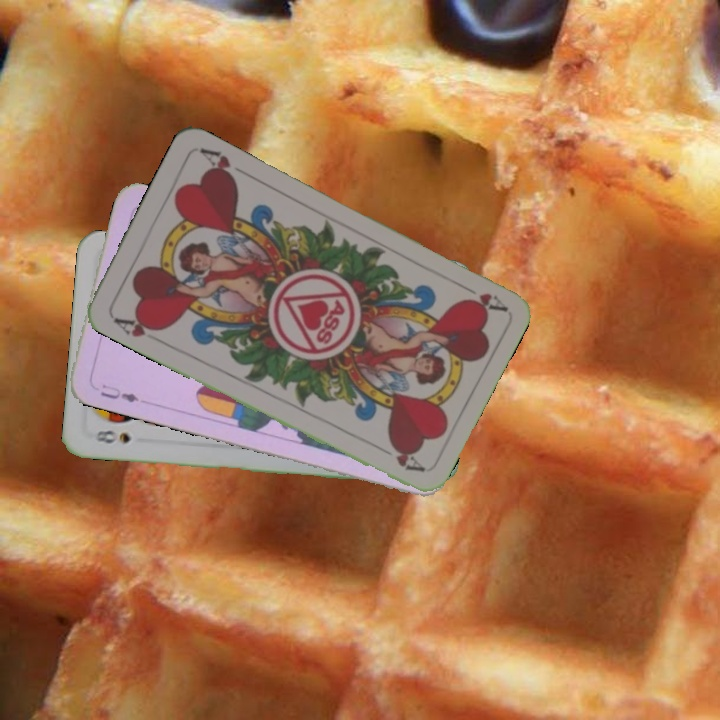EU: (96, 380, 142, 405)
HA: (453, 278, 508, 316), (109, 311, 165, 345)
S8: (91, 426, 133, 446)
